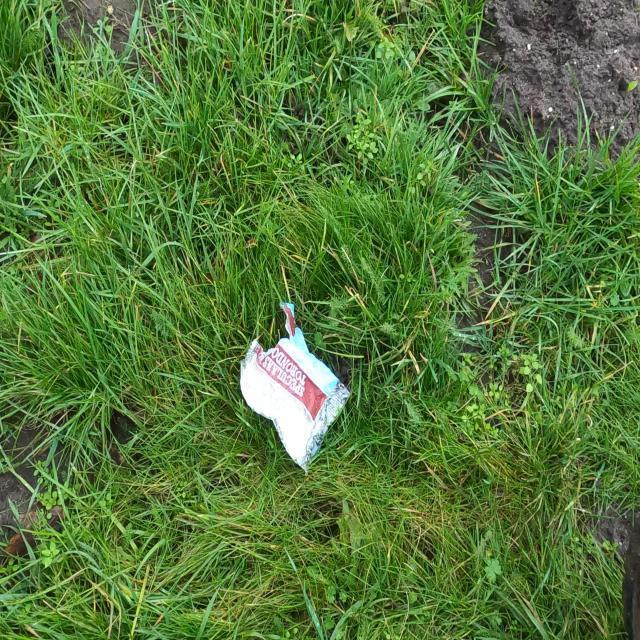Plastic: (238, 298, 354, 480)
